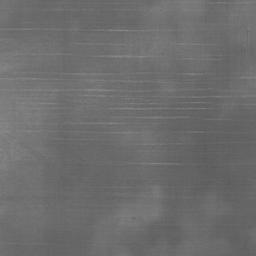Waist folding: (0, 58, 256, 150), (0, 27, 172, 60), (121, 161, 215, 167), (43, 7, 92, 12), (209, 0, 256, 5), (0, 241, 46, 246), (132, 216, 159, 222), (178, 41, 204, 46), (240, 75, 256, 80)
